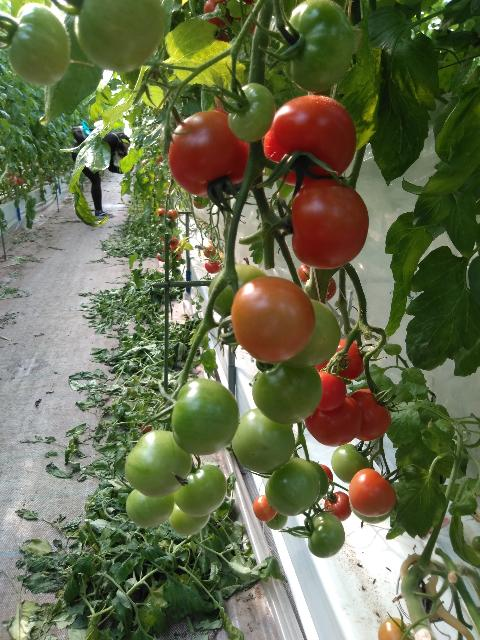l_fully_ripened: (264, 94, 356, 187), (167, 110, 250, 198), (291, 179, 369, 270), (304, 394, 362, 447), (348, 468, 396, 518), (349, 389, 392, 441), (326, 339, 364, 381), (317, 371, 347, 411), (325, 491, 352, 521), (253, 494, 277, 522), (319, 463, 334, 486), (204, 258, 222, 274), (326, 277, 337, 302), (298, 263, 311, 284)
l_green: (280, 0, 354, 93), (74, 0, 165, 73), (172, 378, 241, 456), (7, 2, 70, 86), (125, 429, 193, 497), (252, 362, 324, 425), (279, 298, 341, 369), (231, 408, 296, 473), (265, 457, 320, 516), (208, 263, 268, 317), (172, 464, 227, 517), (228, 82, 275, 143), (125, 488, 175, 528), (307, 512, 346, 559), (331, 443, 370, 484), (168, 503, 210, 536), (305, 460, 330, 503), (350, 502, 394, 525), (265, 512, 288, 530)
l_half_ripened: (230, 276, 316, 364), (378, 618, 410, 640)
